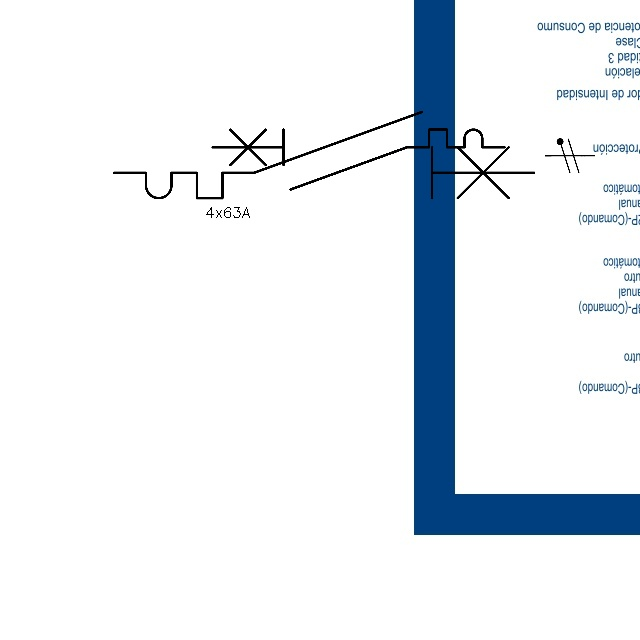interruptor_termomagnetico: (103, 101, 545, 209), (205, 122, 512, 197)
